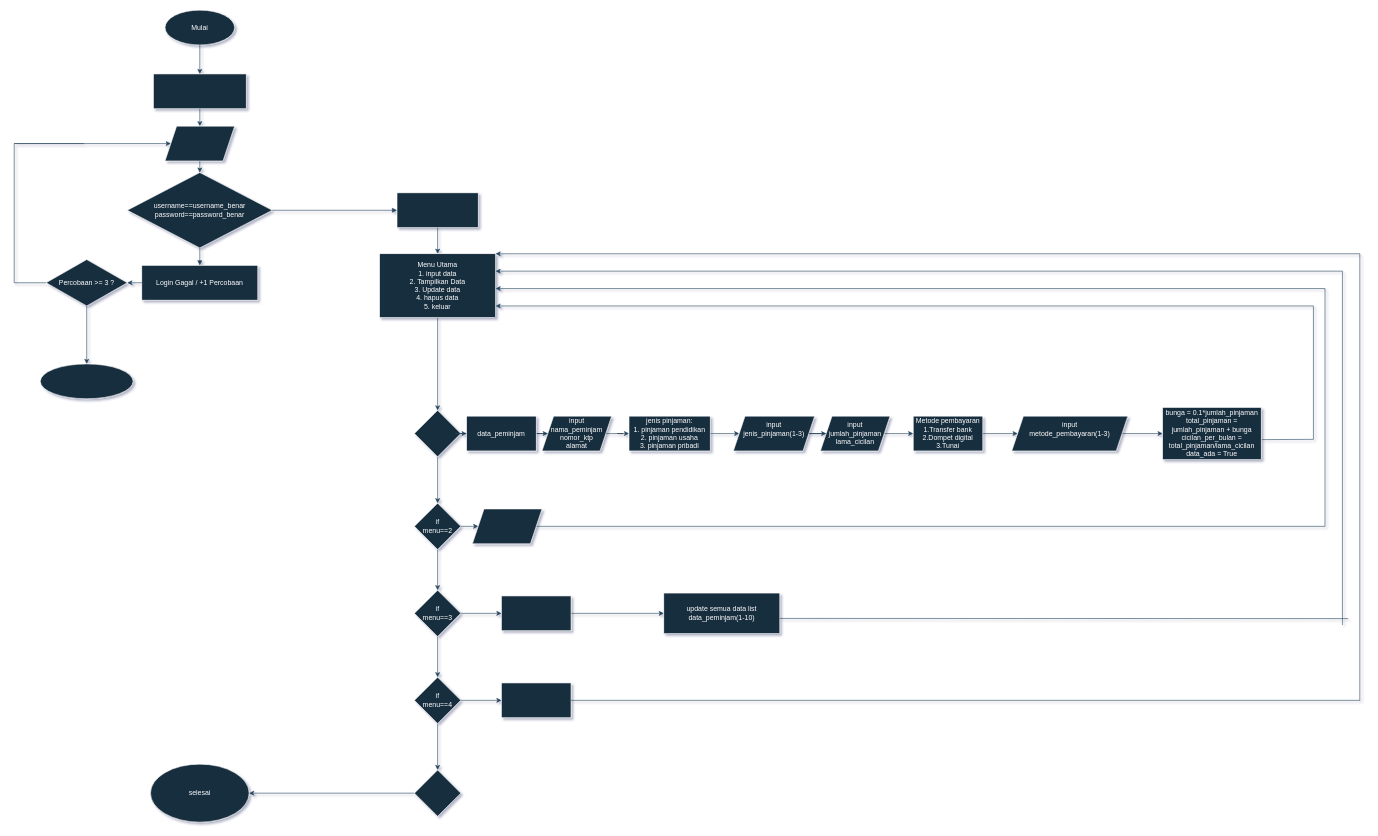
Image size: 1378x836. Some labels were removed from this diagram. The box of each missing label's shape, as (x1, y1, x2, y2) in pixels:
hapus data_peminjam: (501, 682, 571, 718)
if menu==1: (414, 410, 461, 457)
if menu==5: (414, 769, 461, 816)
input username & password: (164, 126, 235, 161)
Login Berhasil: (396, 192, 478, 228)
pilih data_peminjam: (501, 595, 571, 631)
Program Dihentikan: (40, 363, 133, 399)
Tampilkan data_peminjam: (472, 508, 542, 544)
username_benar="Kikania" passwrod_benar="086": (153, 73, 246, 109)
